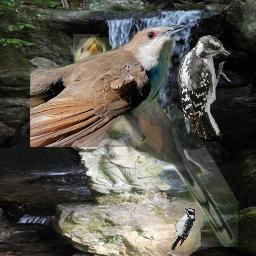Cuckoo: (73, 34, 239, 247), (30, 25, 188, 147)
Woodpecker: (178, 35, 232, 140), (170, 207, 195, 252)
